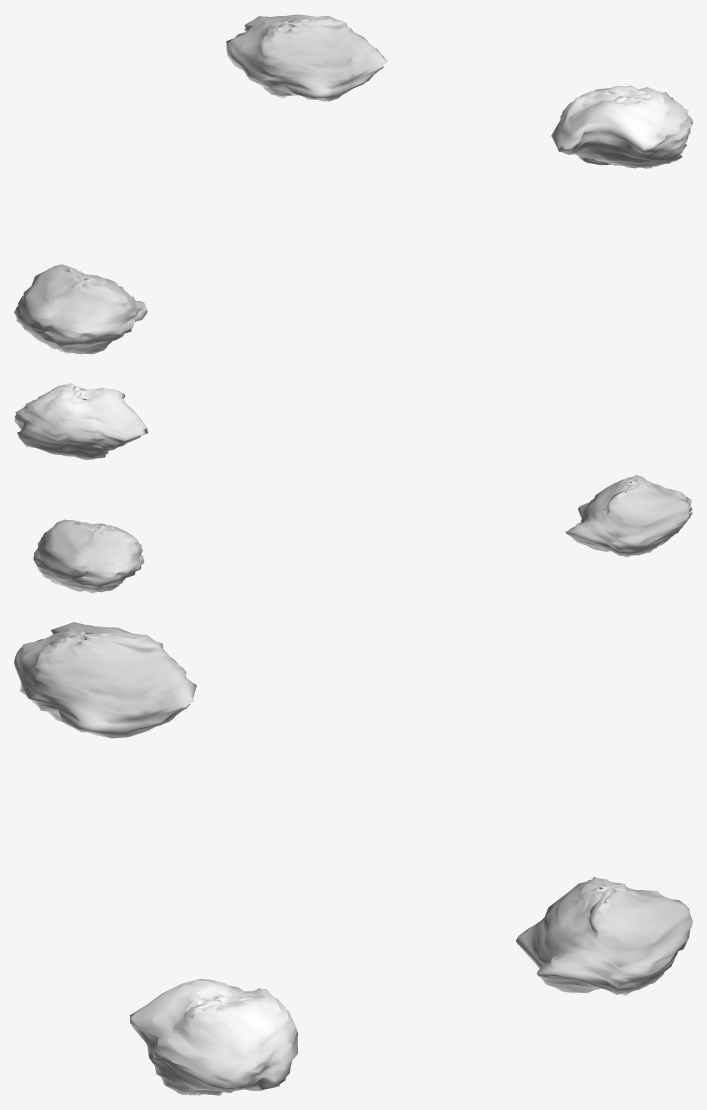
File: Snowdrifts.fbx
The picture shows the model from 3 angles, top to bottom: view 1: azimuth 30°, elevation 25°; view 2: azimuth 150°, elevation 25°; view 3: azimuth 270°, elevation 25°; orthographic projection. The views are drawn at different scales.
Parts seen in each view (by area): view 1: Sphere.002, Sphere.001, Sphere; view 2: Sphere.001, Sphere, Sphere.002; view 3: Sphere, Sphere.001, Sphere.002.
Boxes of the visible parts, left/top/right/bottom form: Sphere.002: left=226, top=14, right=387, bottom=101; Sphere.001: left=551, top=85, right=692, bottom=168; Sphere: left=14, top=264, right=147, bottom=354; Sphere.001: left=14, top=383, right=147, bottom=459; Sphere: left=565, top=474, right=692, bottom=557; Sphere.002: left=33, top=519, right=144, bottom=593; Sphere: left=14, top=622, right=196, bottom=738; Sphere.001: left=130, top=979, right=297, bottom=1095; Sphere.002: left=516, top=876, right=692, bottom=995.
Size of the model in its own units: 2812 by 263 by 1848.
1 material, 1 textured.
